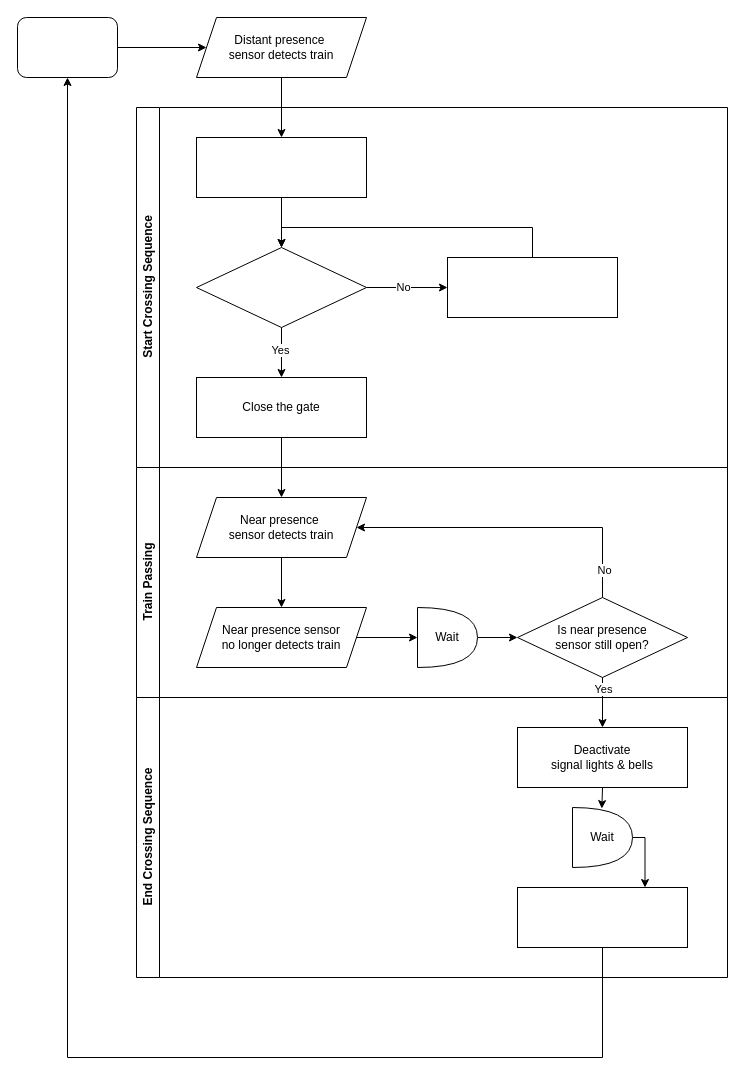
Image size: 745x1083. Some labels were removed from this diagram. The shapes that lost their labels are listed below. From the top down, each one's centre as x and y in pixels, then its label:
At (67,47): "Idle state".
At (281,167): "Activate signal lights & bells".
At (281,287): "Is the gate clear?".
At (532,287): "Sound the gate alarm".
At (602,917): "Open the gate".
